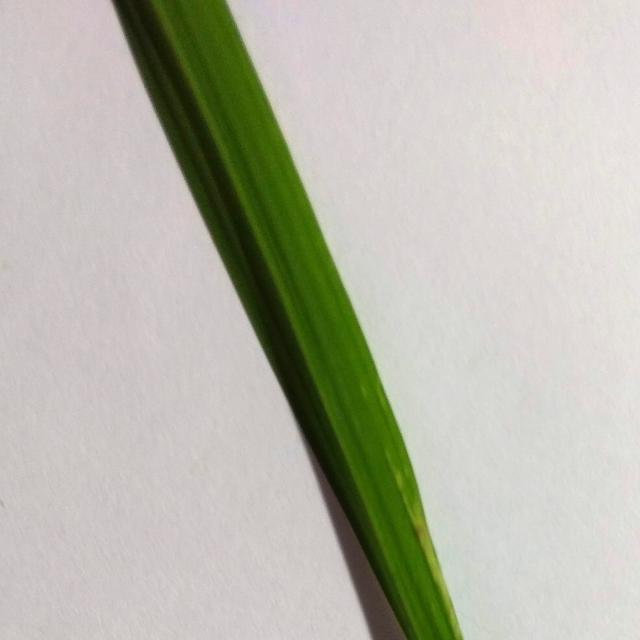Rice_Healthy: (115, 0, 463, 640)
